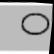no answer: (18, 10, 52, 37)
